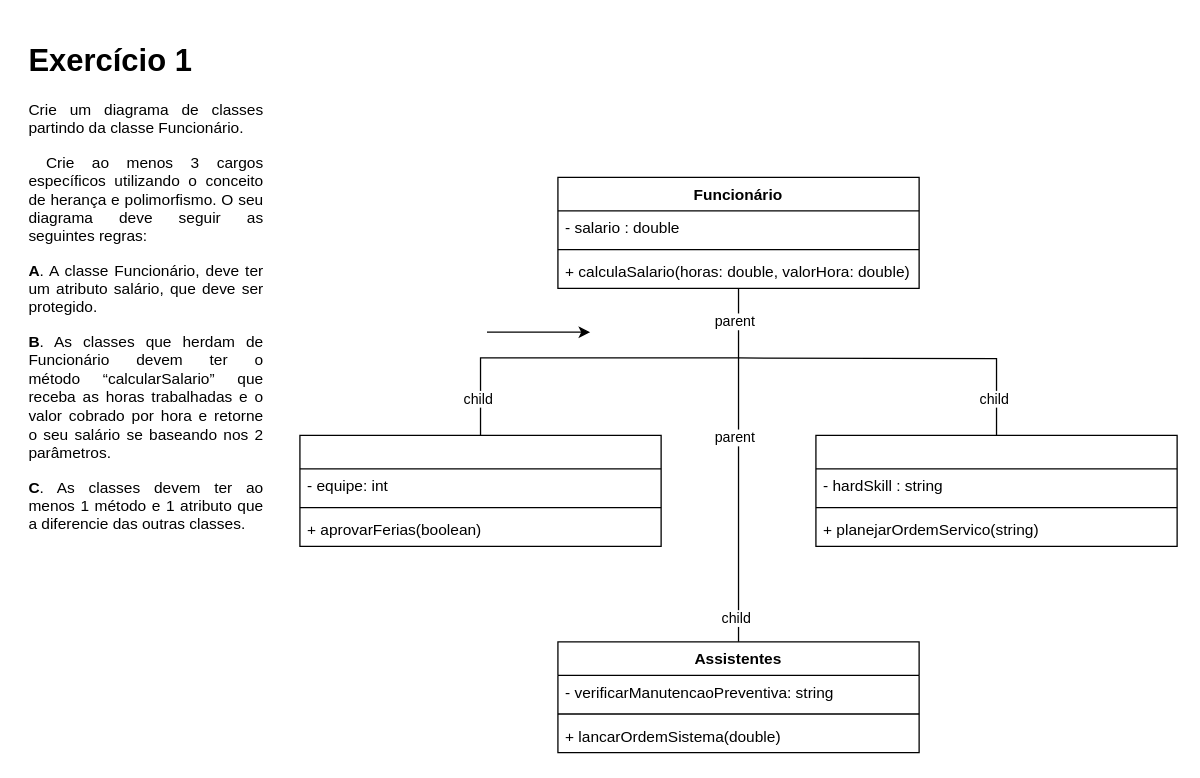
Image size: 1200x778. Some labels were removed from this diagram. Here are the shapes that lost their labels. From the top down, the box of each, then its label:
(299, 434, 661, 546): Supervisão
(815, 434, 1177, 546): Técnicos
